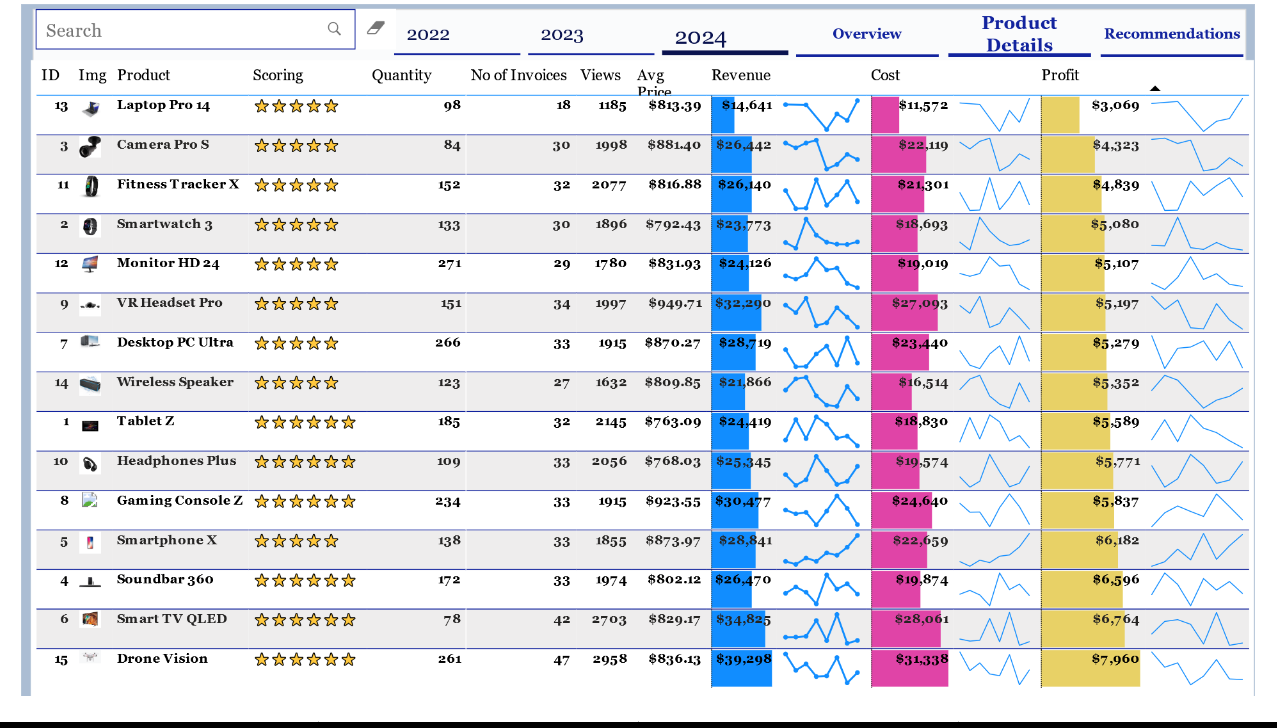

The page's visual inventory and layout, read from the dashboard file:
{"tool":"powerbi","page":{"name":"Product Details","canvas":[1280,720],"ordinal":1},"visuals":[{"type":"tableEx","fields":{"Values":["dimproduct.ID","dimproduct.Img","dimproduct.Product","All Measure.Scoring","dimproduct.Stock Quantity","All Measure.No of Invoices","All Measure.Views","Avg(FactTable.Sales Amount (USD))","All Measure.Revenue","SparklineData(All Measure.Revenue_[Calender.Month])","All Measure.Cost","SparklineData(All Measure.Cost_[Calender.Month])"]},"box":[9.5,58.4,1269.9,660],"z":0},{"type":"advancedSlicerVisual","fields":{"Values":["Calender.Year"]},"box":[382.4,0,420.5,58.4],"z":1000},{"type":"pageNavigator","box":[804.1,4.8,463.4,50],"z":2000},{"type":"textFilter25A4896A83E0487089E2B90C9AE57C8A","fields":{"field":["dimproduct.Product"]},"box":[9.5,0,384.8,58.4],"z":3000},{"type":"actionButton","box":[822,9.5,144.1,40.5],"z":4000},{"type":"actionButton","box":[1105.5,4.8,162,45.3],"z":5000}]}

Visuals, with their boxes in screenshot pixels (x1, y1, x2, y2), scaled from the page's 1280x720 canvas onto the 1277x728 screenshot:
tableEx - dimproduct.ID x dimproduct.Img: [x1=9, y1=59, x2=1276, y2=726]
advancedSlicerVisual - Calender.Year: [x1=382, y1=0, x2=801, y2=59]
pageNavigator: [x1=802, y1=5, x2=1265, y2=55]
textFilter25A4896A83E0487089E2B90C9AE57C8A - dimproduct.Product: [x1=9, y1=0, x2=393, y2=59]
actionButton: [x1=820, y1=10, x2=964, y2=51]
actionButton: [x1=1103, y1=5, x2=1265, y2=51]
